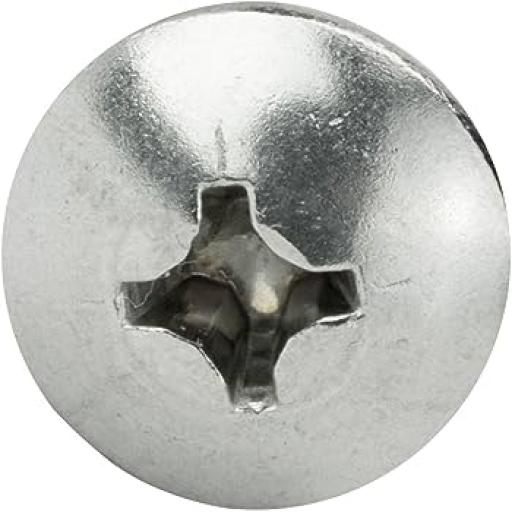Phillips: (4, 4, 510, 501)
